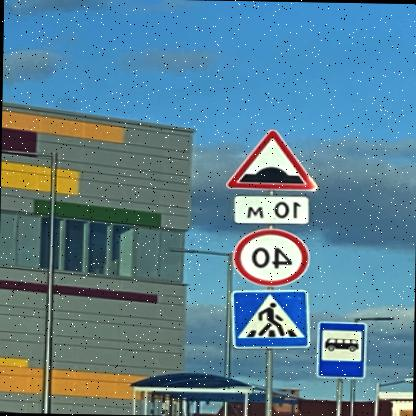crosswalk: (231, 286, 313, 348)
speedlimit: (235, 226, 311, 284)
